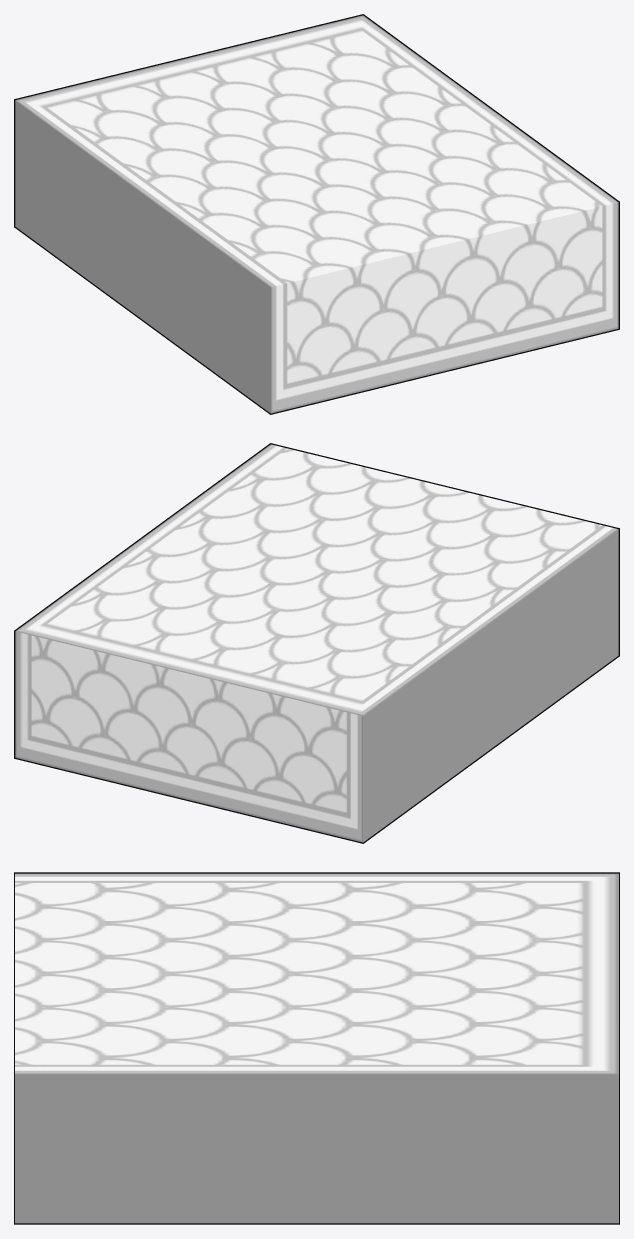
Rendered from Building_AnimalistSlab_Broad_Things_Building_FloorCoverings_SlabAnimalistBroad_SlabAnimalistBroadC.glb.
3 views of the same model, one above another, from view 1: azimuth 30°, elevation 25°; view 2: azimuth 150°, elevation 25°; view 3: azimuth 270°, elevation 25° (orthographic). The views are drawn at different scales.
Visible parts, largest first — view 1: Body, Outline; view 2: Body, Outline; view 3: Body, Outline.
Boxes of the visible parts, x1,y1,x2,y2 form: Body: (15, 15, 618, 413); Outline: (14, 14, 619, 414); Body: (15, 444, 618, 842); Outline: (14, 443, 619, 843); Body: (15, 873, 618, 1223); Outline: (14, 872, 619, 1224).
Size of the model in its own units: 1.99 by 0.6974 by 2.53.
2 materials, 1 textured.
